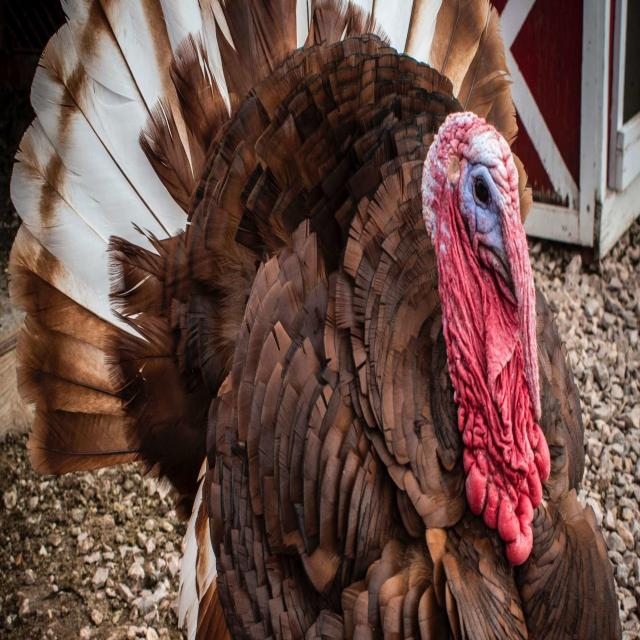Turkey: (8, 0, 626, 640)
